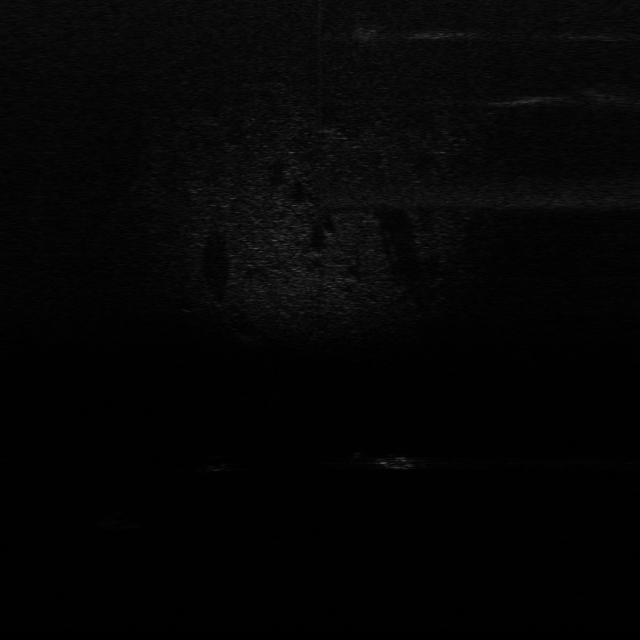ball: (199, 451, 243, 477)
circle cage: (96, 508, 146, 534)
human body: (336, 443, 432, 476)
